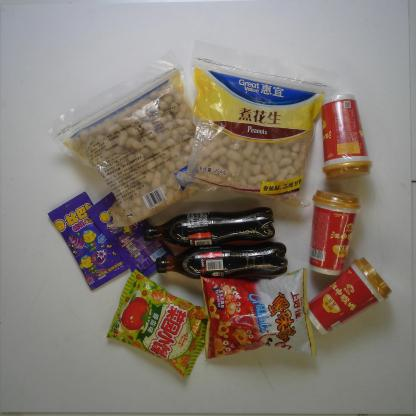Candy: (47, 191, 130, 291), (85, 190, 175, 277)
Dried Food: (40, 53, 215, 231), (174, 53, 339, 209)
Drink: (141, 205, 276, 248), (155, 240, 290, 280)
Instant Drink: (307, 255, 393, 336), (306, 187, 364, 277), (318, 92, 375, 180)
Puffed Food: (105, 267, 208, 380), (198, 266, 318, 360)
